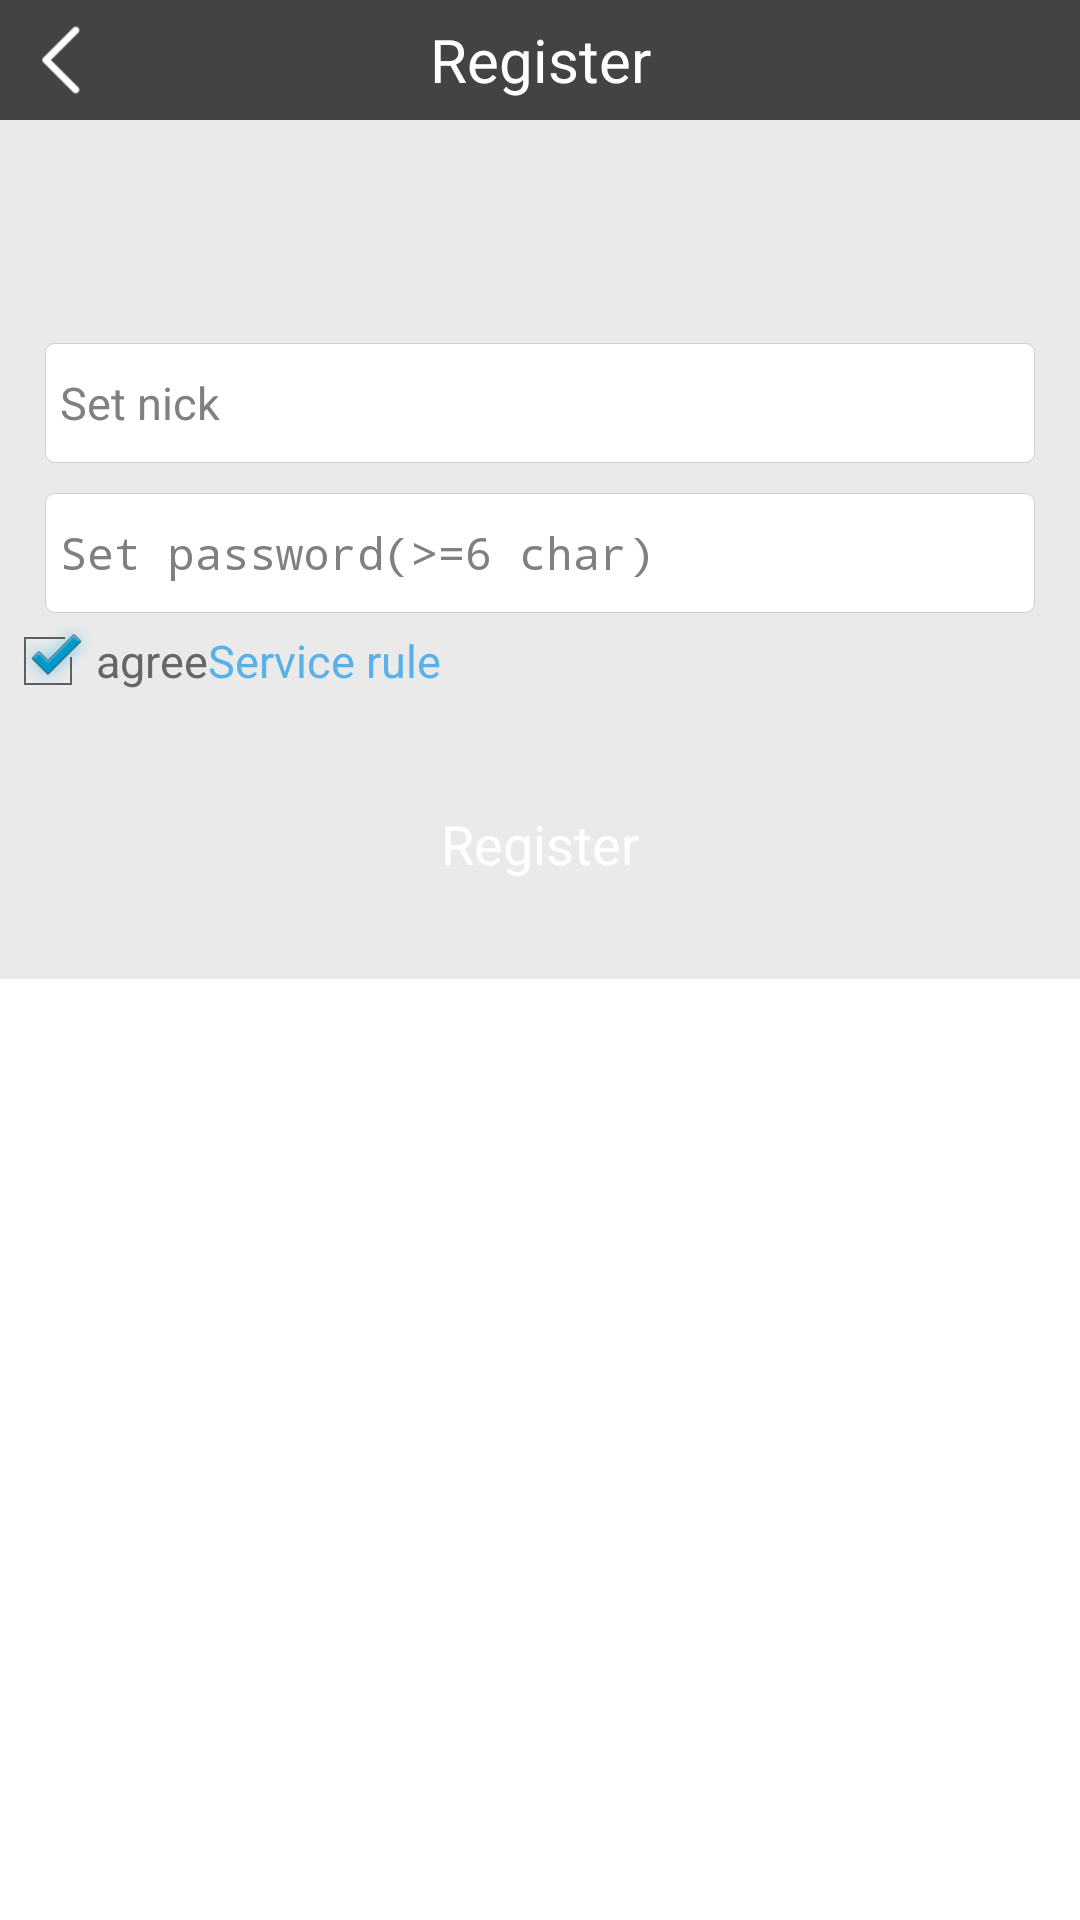

Locate icon controls on the screen. Image size 1080 × 1920, boxes as [left=x1, top=y1, right=x2, bottom=y2].
arrow left: [left=42, top=26, right=80, bottom=94]
